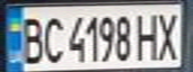1: (81, 11, 100, 62)
4: (63, 11, 84, 63)
8: (112, 11, 136, 62)
9: (97, 11, 118, 62)
B: (15, 12, 48, 64)
C: (39, 12, 66, 64)
H: (133, 9, 163, 61)
X: (154, 8, 184, 61)
